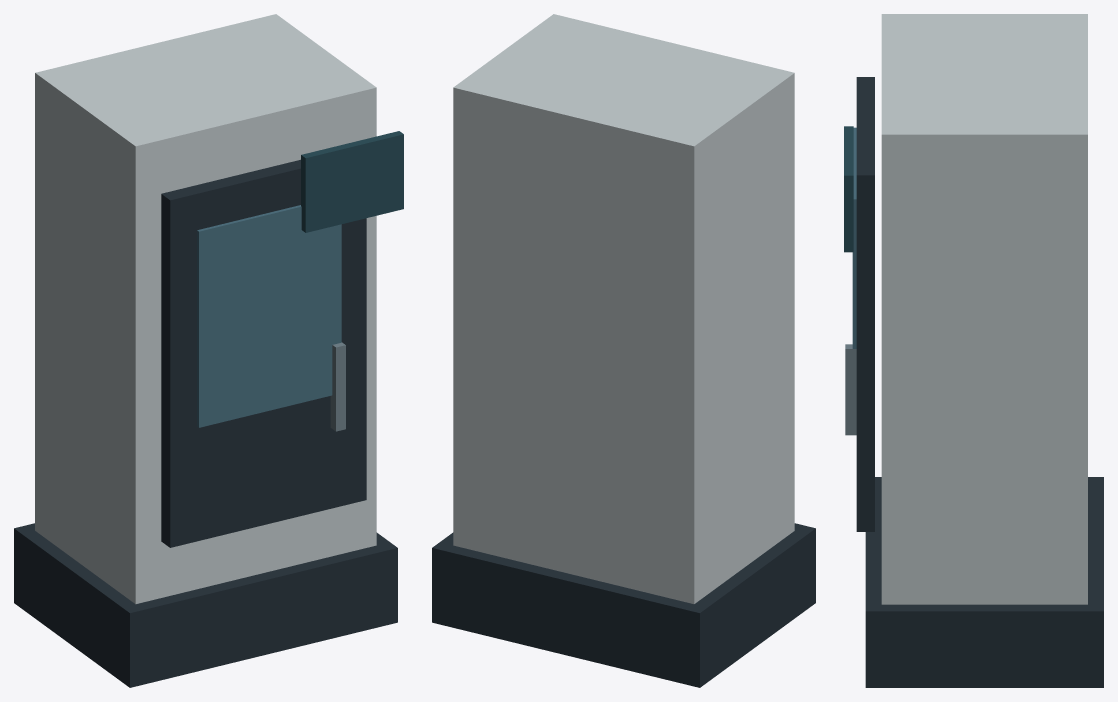
The model's file is agv-power-220.glb.
3 renders of one model, left to right at view 1: azimuth 30°, elevation 25°; view 2: azimuth 150°, elevation 25°; view 3: azimuth 270°, elevation 25°, orthographic. The views are drawn at different scales.
Size of the model in its own units: 0.6 by 1.14 by 0.491.
